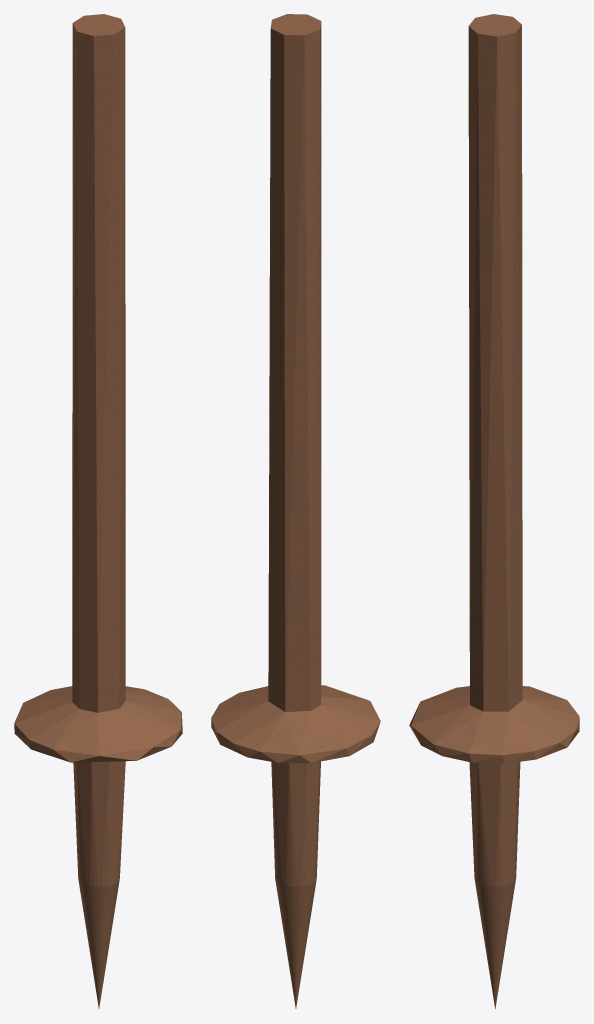
Rendered from needle-2.glb.
3 views of the same model, side by side, from view 1: azimuth 30°, elevation 25°; view 2: azimuth 150°, elevation 25°; view 3: azimuth 270°, elevation 25° (orthographic).
Parts seen in each view (by area): view 1: Cylinder.104; view 2: Cylinder.104; view 3: Cylinder.104.
Boxes of the visible parts, x1,y1,x2,y2 form: Cylinder.104: [14, 14, 182, 1008]; Cylinder.104: [211, 14, 380, 1008]; Cylinder.104: [409, 14, 579, 1008].
Bounding box in the file's own units: 0.02 × 0.1289 × 0.0202.
1 material, 1 textured.
